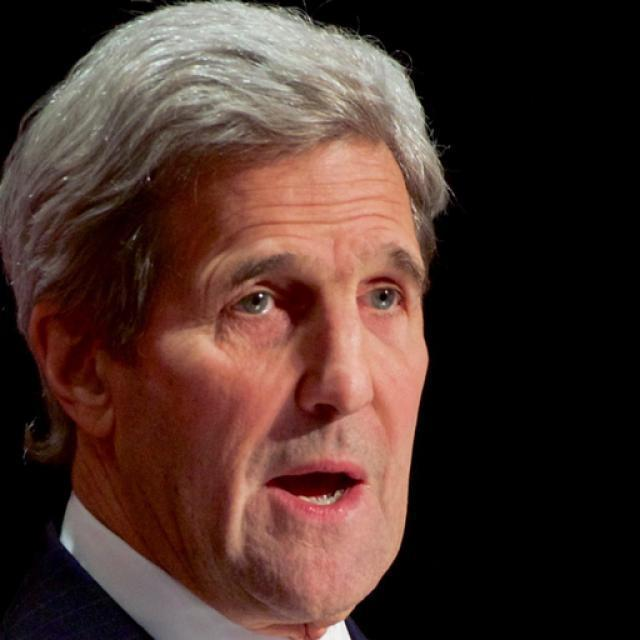0_rostro_limpio: (32, 4, 426, 619)
